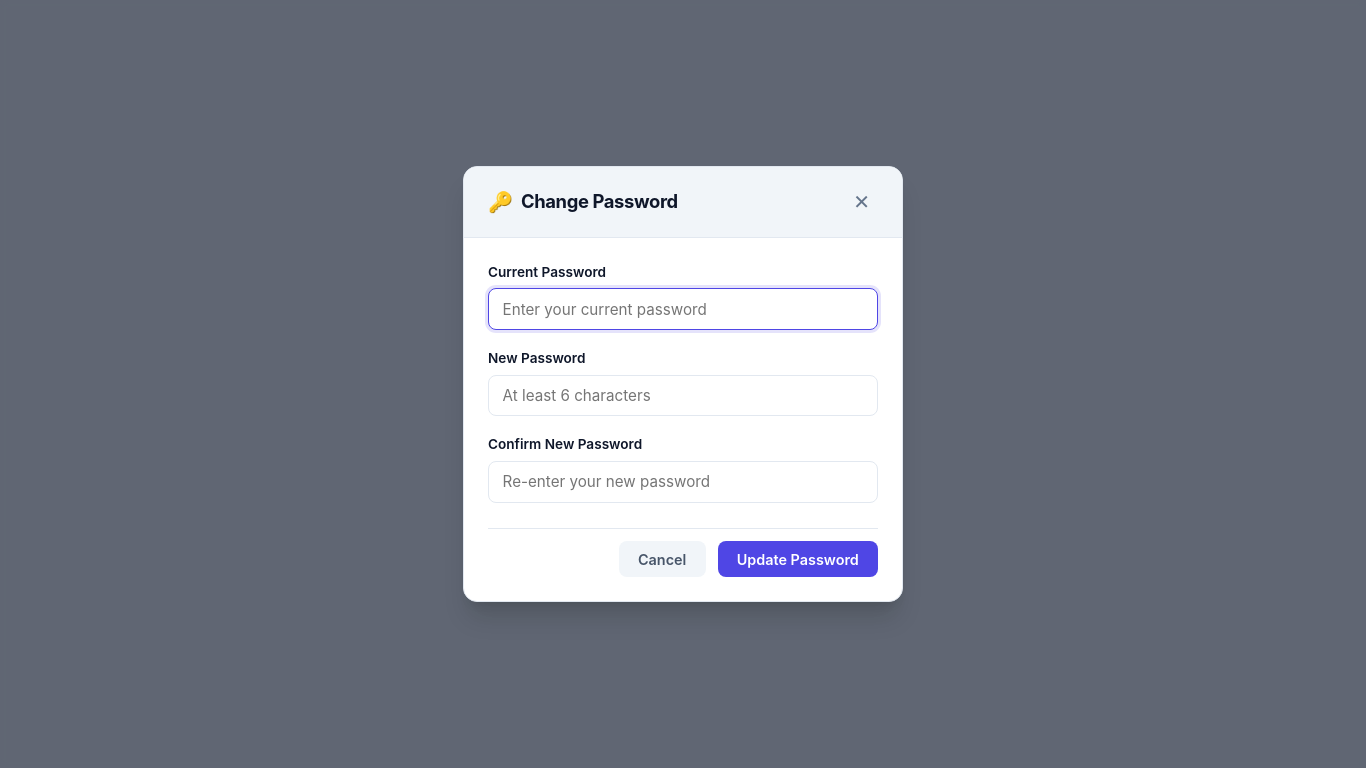
Scenario: Class Settings & Management Full Suite › ChangePasswordModal › renders modal and updates password on valid submission
Expected: the heading "Change Password" is shown, [521,188,678,216]
Type "oldpass123" into the password field labelled "Current Password" at (683, 309), box [488,288,878,330]
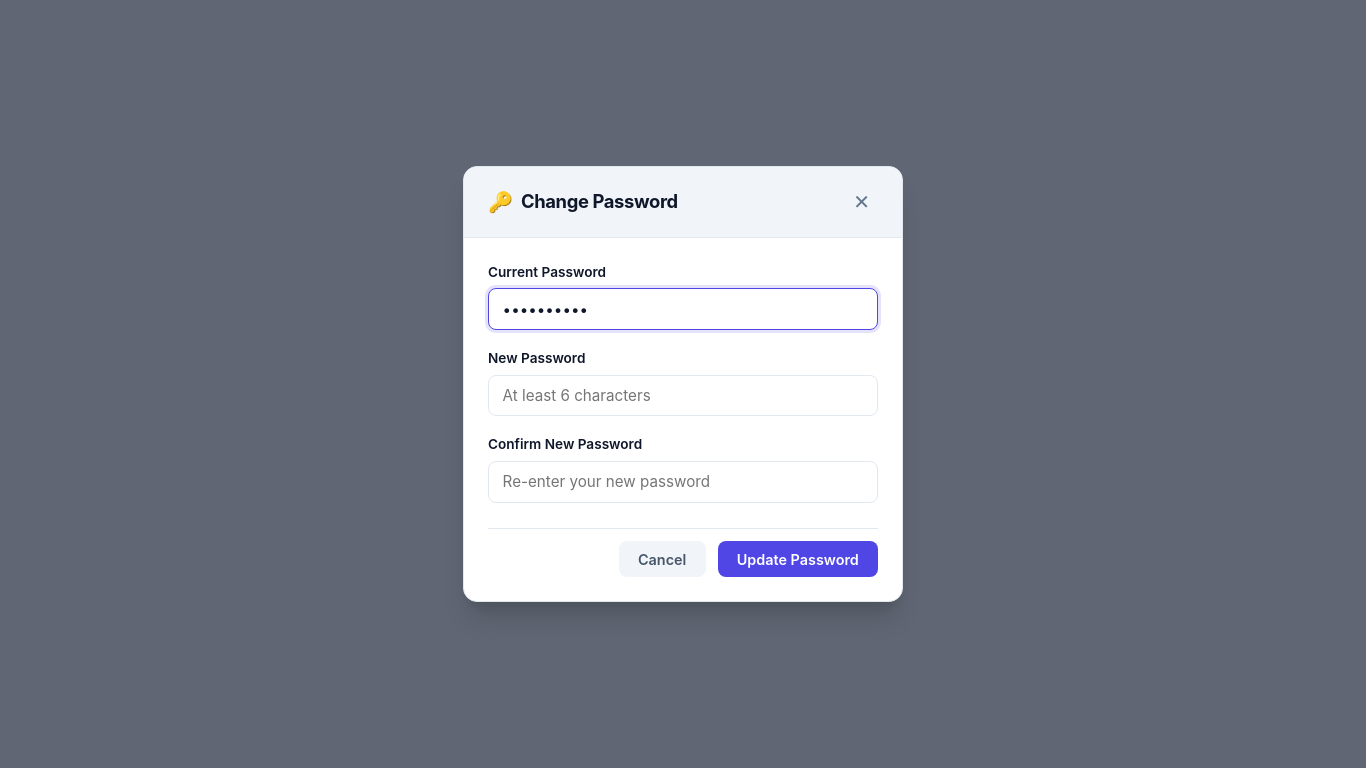
Type "newsecret999" into the password field labelled "New Password" at (683, 396), box [488,375,878,416]
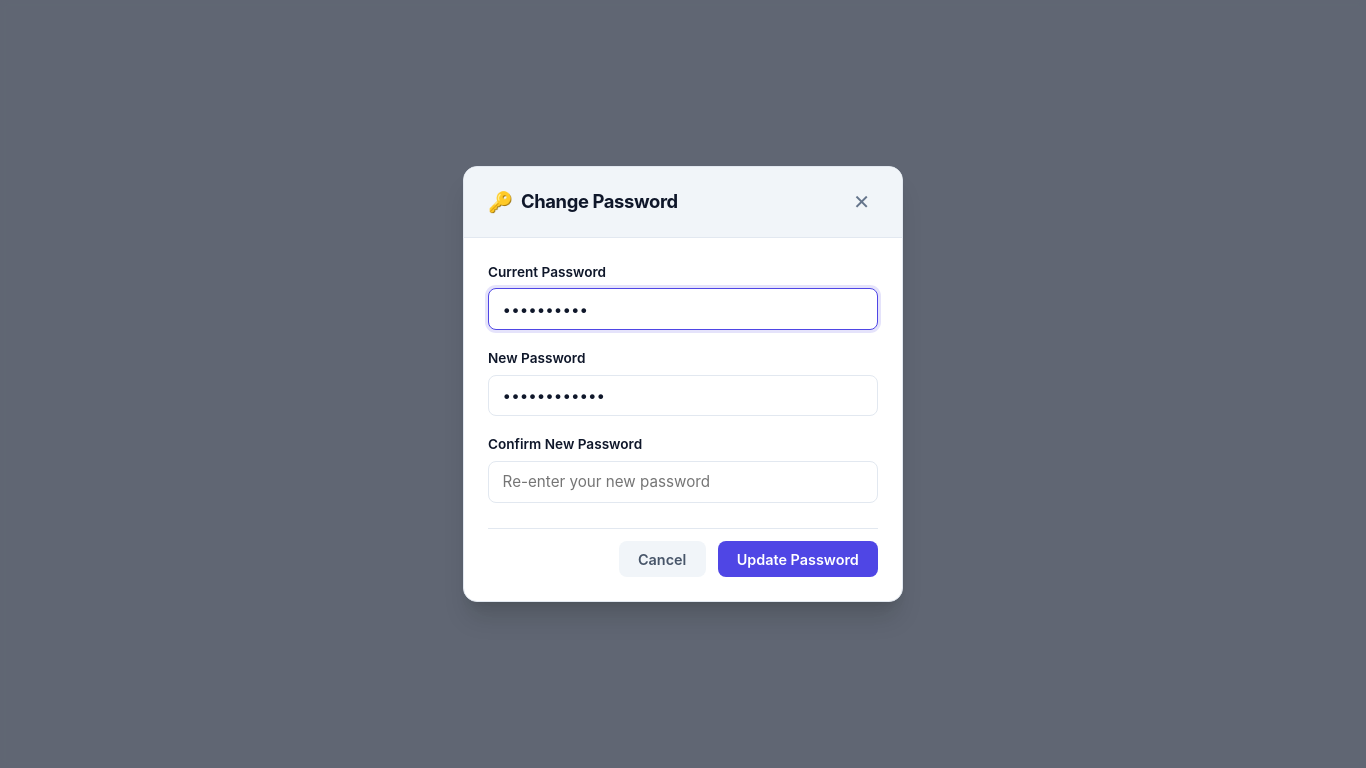
Type "newsecret999" into the password field labelled "Confirm New Password" at (683, 482), box [488,461,878,503]
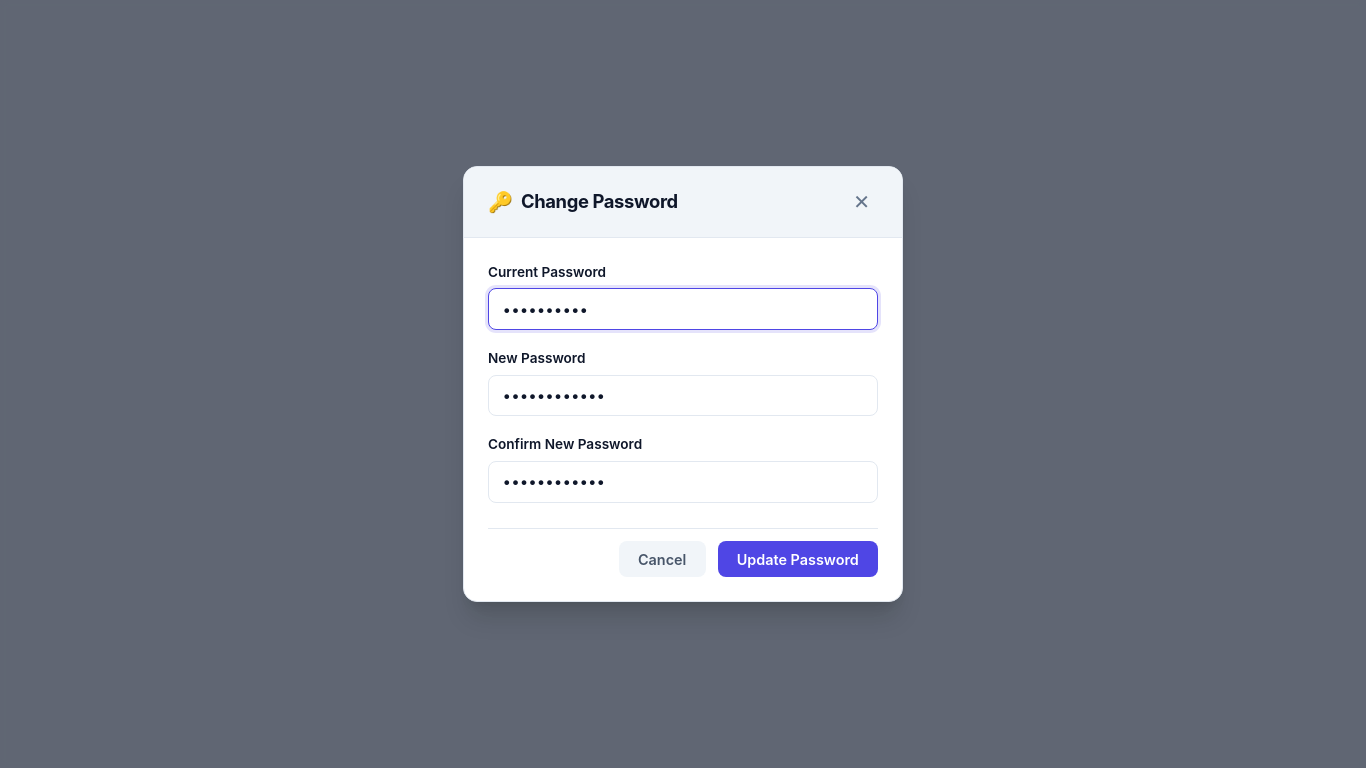
Click the button "Update Password" at (798, 559), box [718,541,878,577]
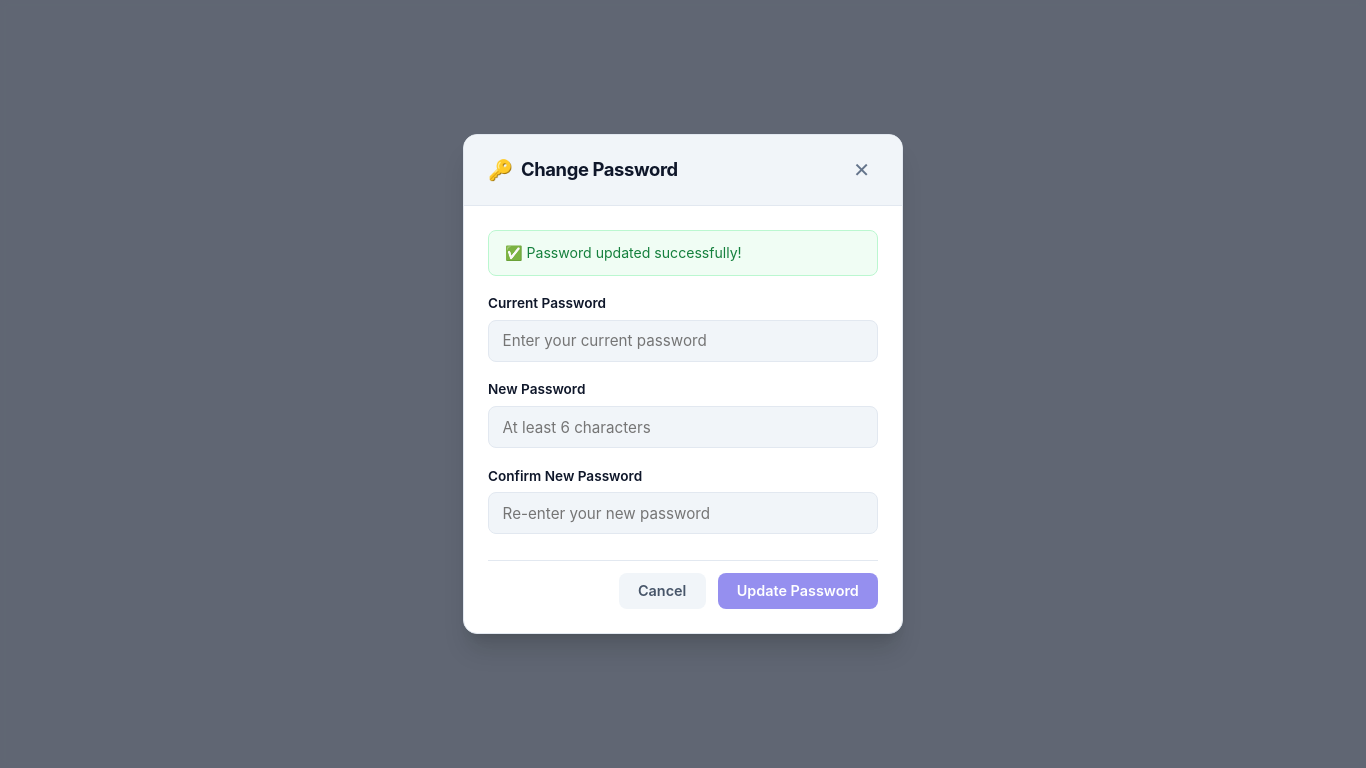
Now the text "✅ Password updated successfully!" is shown, box [488,230,878,276]
